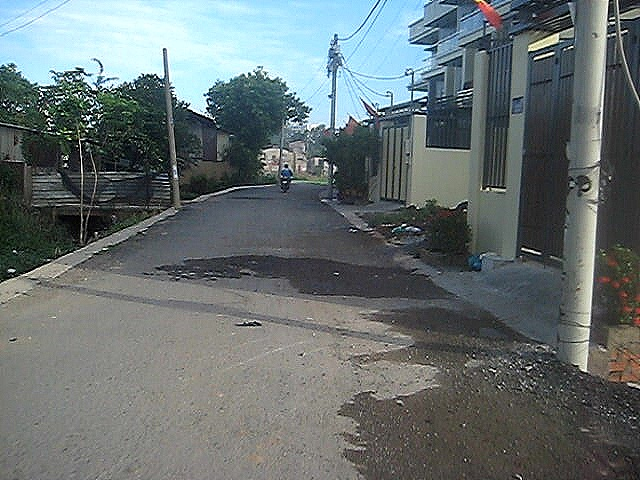hole: (200, 268, 227, 276), (222, 261, 246, 268), (247, 256, 264, 265)
